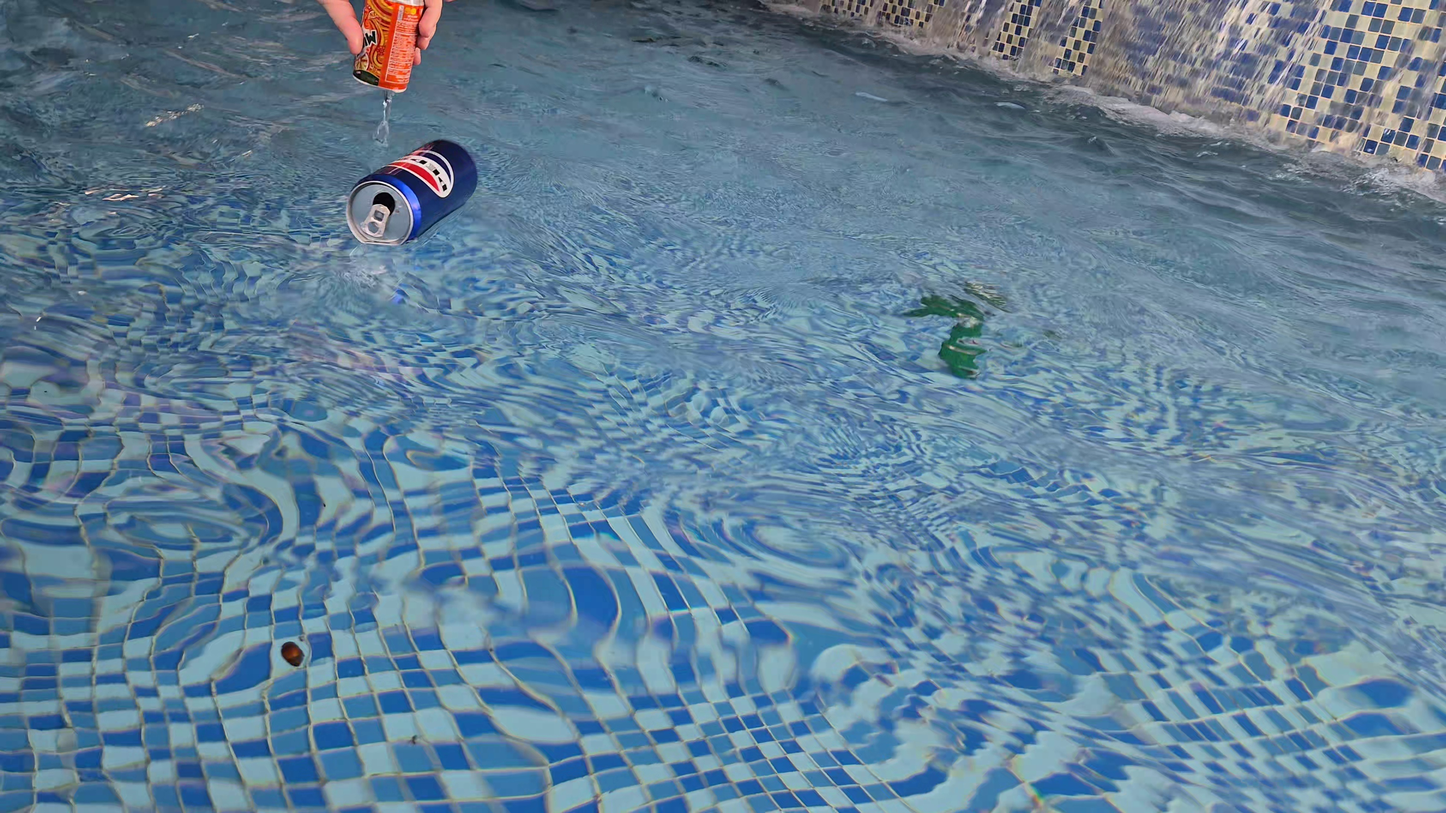debris: (335, 129, 485, 255), (346, 0, 432, 96)
